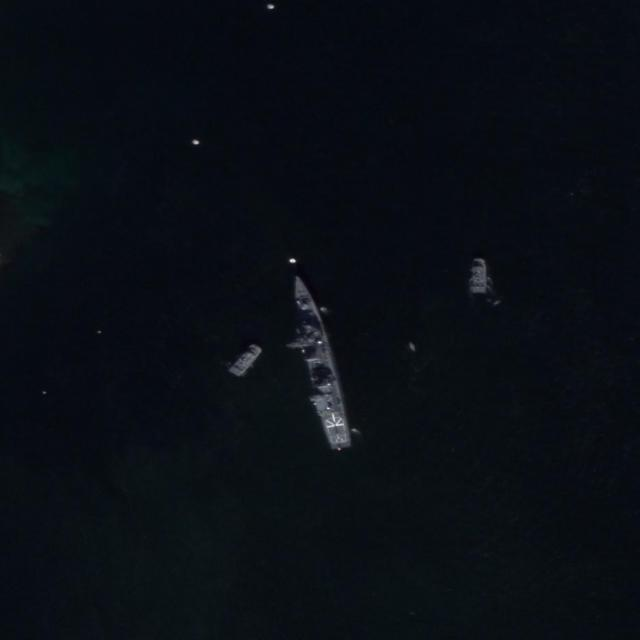Destroyer: (271, 270, 356, 458)
Other Warship: (226, 340, 265, 381), (470, 256, 487, 295)
